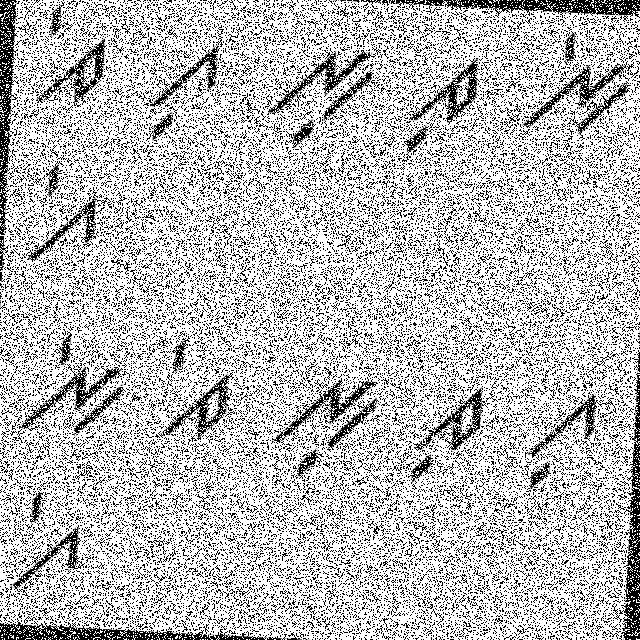ge: (7, 484, 98, 602), (19, 153, 104, 270)
gu: (518, 378, 602, 506), (138, 34, 224, 144)
nge: (14, 328, 129, 449), (522, 29, 635, 142)
ngu: (262, 360, 383, 487), (260, 34, 380, 155)
te: (153, 328, 240, 448), (32, 0, 111, 113)
tu: (407, 374, 490, 500), (396, 53, 486, 164)
